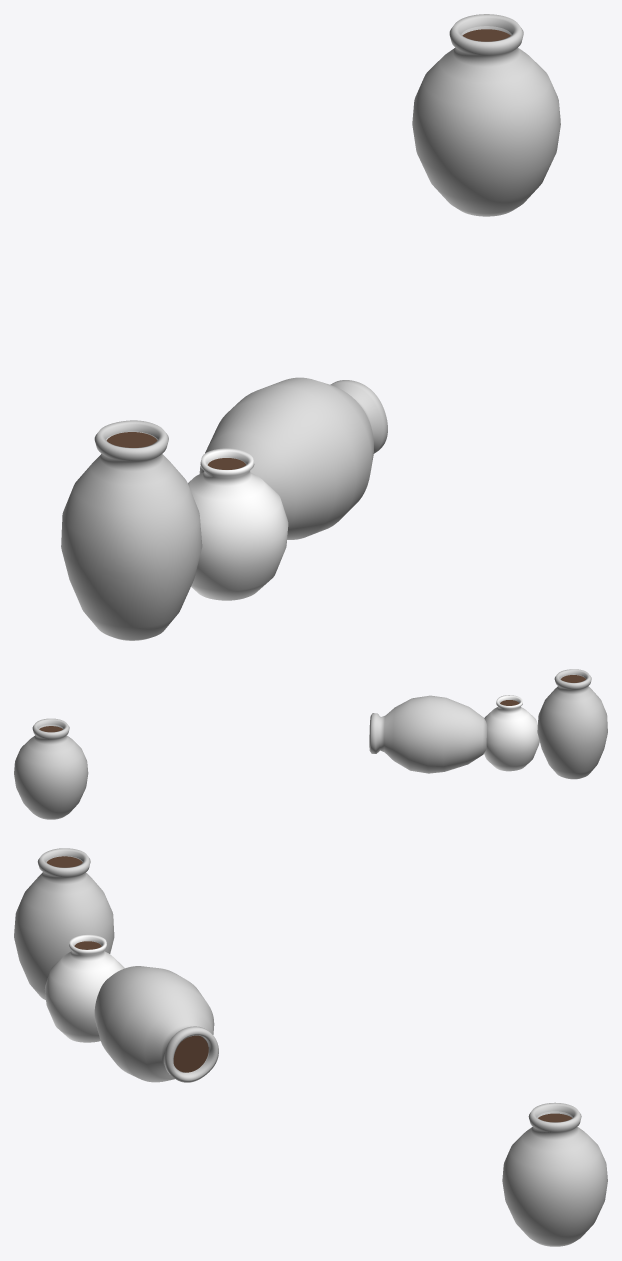
3 views of the same model, one above another, from view 1: azimuth 30°, elevation 25°; view 2: azimuth 150°, elevation 25°; view 3: azimuth 270°, elevation 25° (orthographic). The views are drawn at different scales.
Parts seen in each view (by area): view 1: n09504, n09500, n09511, n09509; view 2: n09511, n09504, n09500, n09509; view 3: n09511, n09500, n09504, n09509.
Boxes of the visible parts, x1,y1,x2,y2 form: n09504: (61,420,202,640); n09500: (412,14,560,216); n09511: (199,377,387,539); n09509: (188,448,288,600); n09511: (369,695,486,773); n09504: (537,669,607,779); n09500: (14,718,88,819); n09509: (484,695,539,771); n09511: (94,966,218,1082); n09500: (502,1102,607,1246); n09504: (14,848,114,999); n09509: (44,934,124,1042).
Size of the model in its own units: 5.13 by 1.16 by 4.5.
